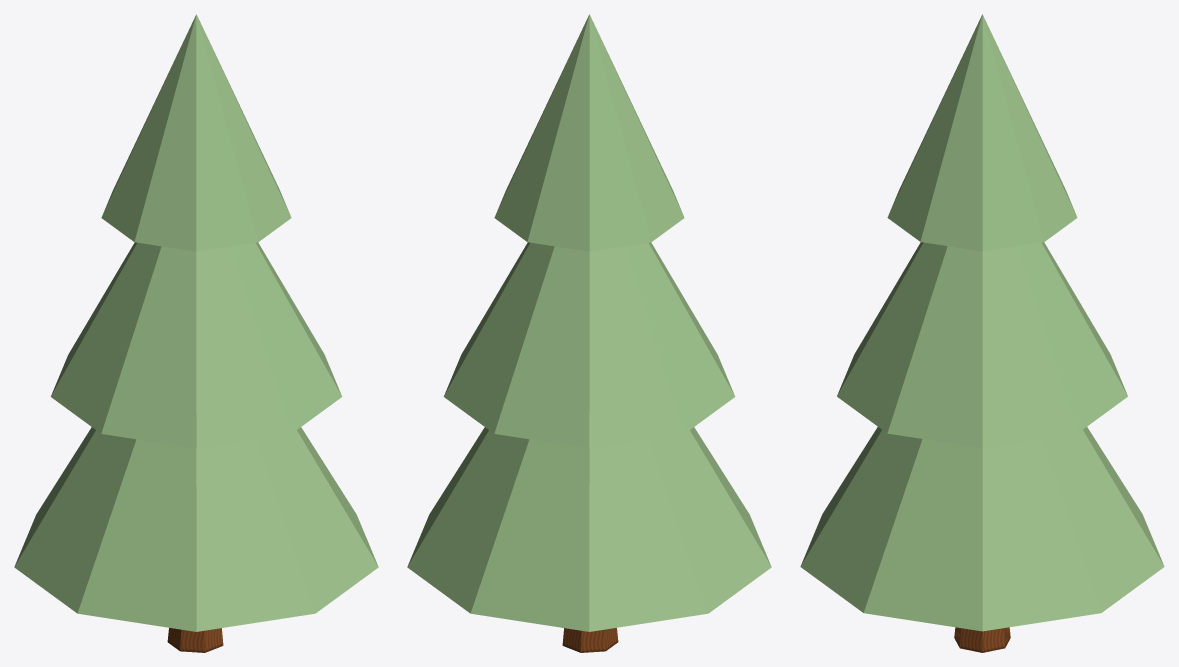
File: tree_conifer.glb
The picture shows the model from 3 angles, left to right: view 1: azimuth 30°, elevation 25°; view 2: azimuth 150°, elevation 25°; view 3: azimuth 270°, elevation 25°; orthographic projection.
Visible parts, largest first — view 1: park-tree-conifer-grass, park-tree-conifer-timber; view 2: park-tree-conifer-grass, park-tree-conifer-timber; view 3: park-tree-conifer-grass, park-tree-conifer-timber.
Boxes of the visible parts, x1=… form: park-tree-conifer-grass: x1=14, y1=14, x2=378, y2=631; park-tree-conifer-timber: x1=167, y1=628, x2=223, y2=652; park-tree-conifer-grass: x1=407, y1=14, x2=771, y2=631; park-tree-conifer-timber: x1=562, y1=628, x2=618, y2=652; park-tree-conifer-grass: x1=800, y1=14, x2=1164, y2=631; park-tree-conifer-timber: x1=954, y1=627, x2=1010, y2=652.
Bounding box in the file's own units: 2.23 × 4.3 × 2.26.
2 materials, 1 textured.
